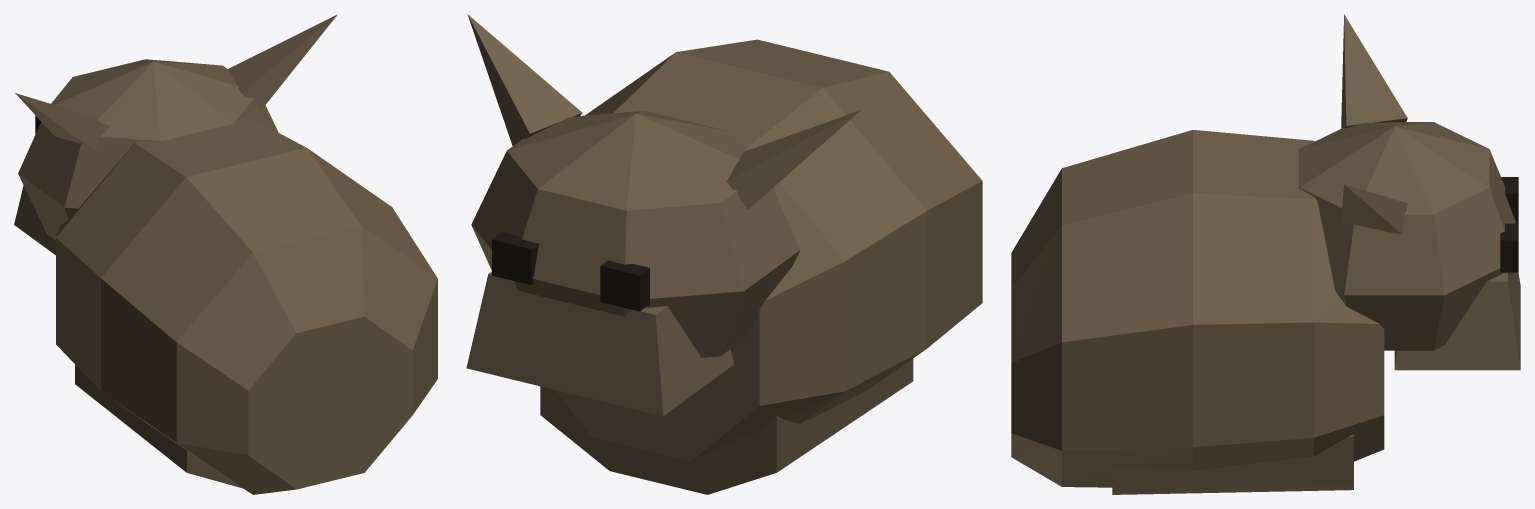
File: animal_dryad_basic_bones.obj
3 renders of one model, left to right at view 1: azimuth 30°, elevation 25°; view 2: azimuth 150°, elevation 25°; view 3: azimuth 270°, elevation 25°, orthographic. The views are drawn at different scales.
Bounding box in the file's own units: 0.4784 × 0.4904 × 0.604.
